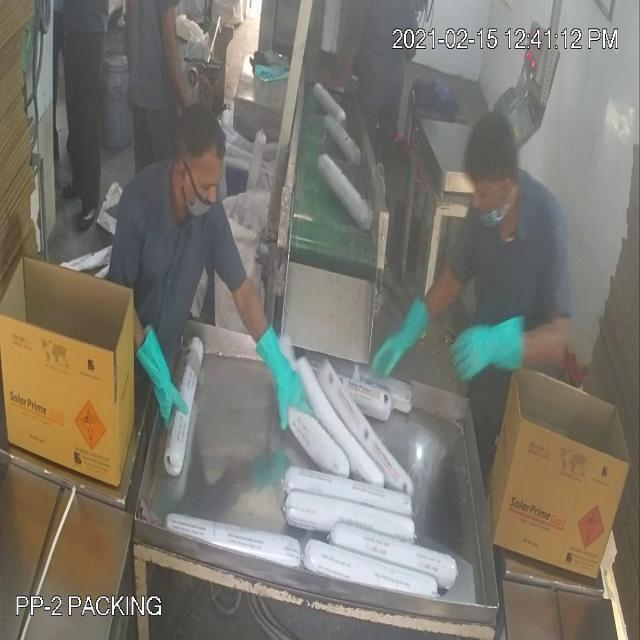Gloves: (40, 60, 488, 382)
